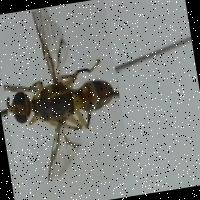Oriental-fruit-fly: (0, 0, 132, 193)
